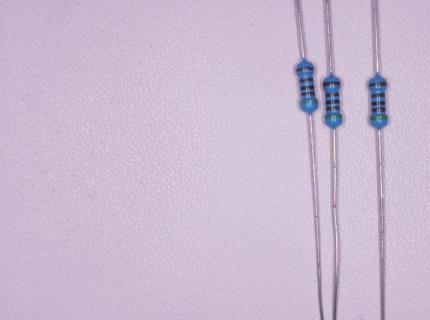Black band: (301, 85, 314, 90), (371, 101, 386, 105), (326, 100, 340, 104)
Brown band: (296, 66, 314, 73), (369, 81, 387, 87), (323, 81, 341, 87), (299, 78, 314, 83), (372, 107, 386, 112), (371, 93, 385, 98), (326, 106, 340, 111), (301, 91, 315, 96), (325, 93, 339, 97)
Green band: (300, 100, 318, 105), (325, 115, 342, 120), (370, 116, 388, 120)
